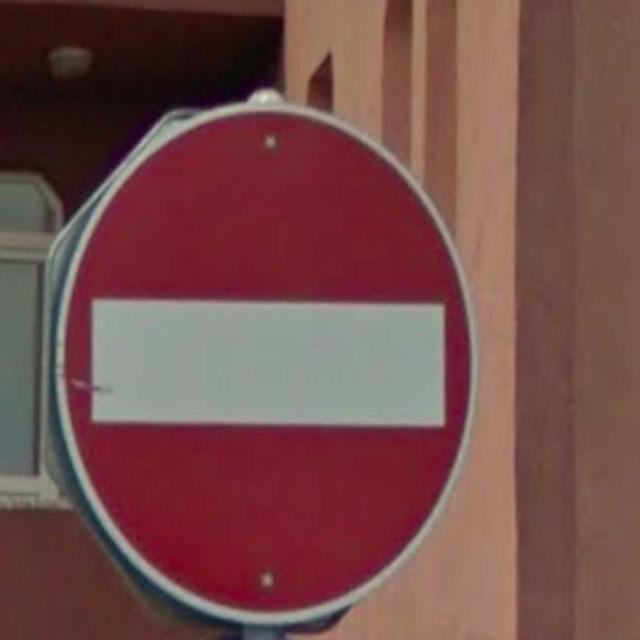girisyok: (55, 103, 477, 621)
